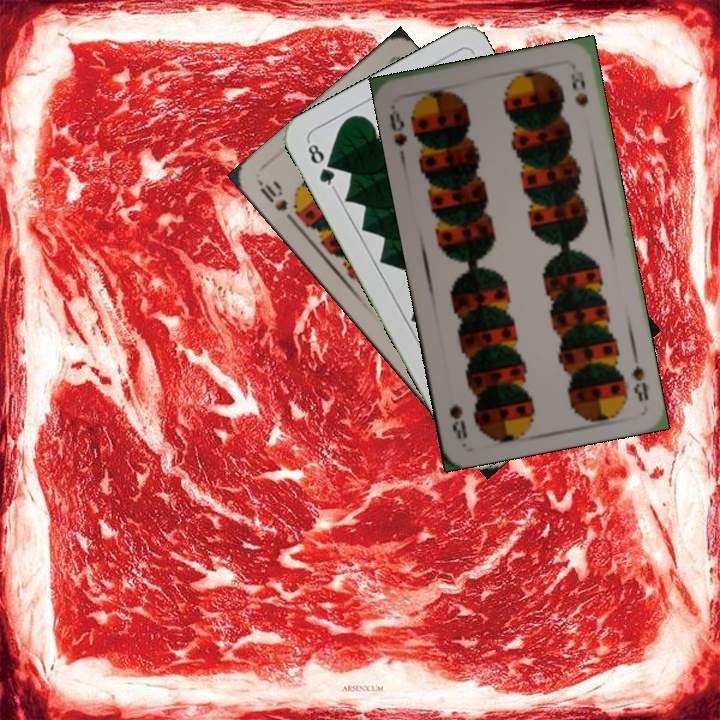G8: (303, 137, 338, 192)
S10: (255, 177, 299, 228)
S8: (627, 348, 651, 404), (385, 106, 410, 149)
